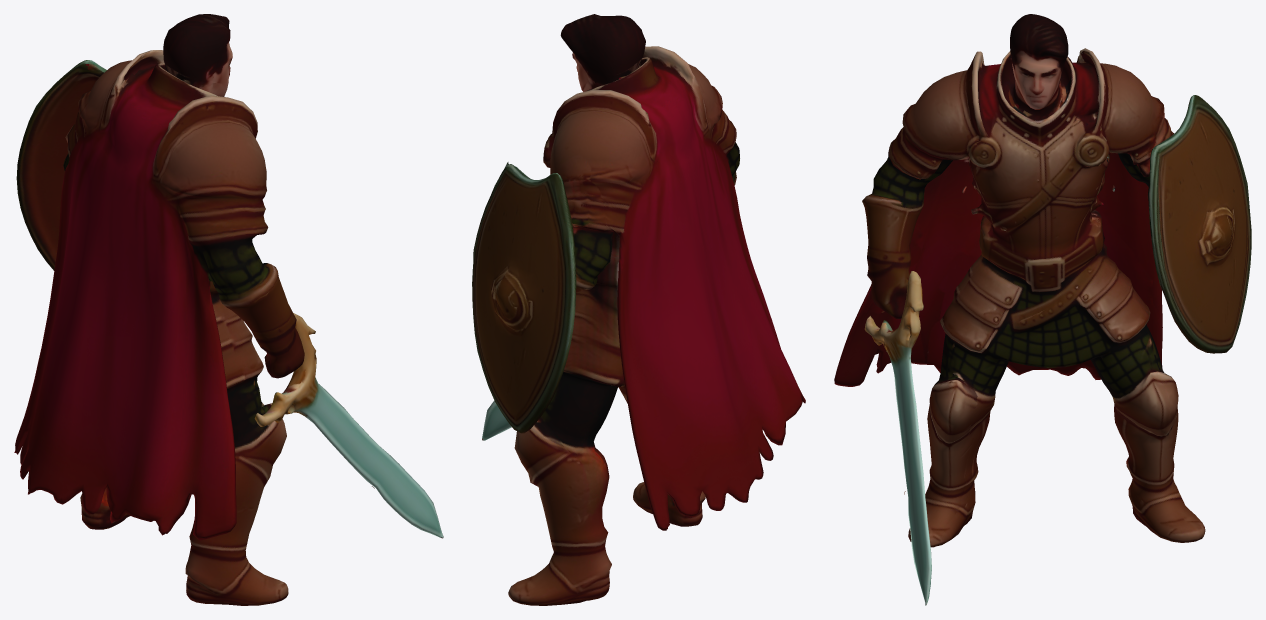
The model's file is AshF.fbx.
The picture shows the model from 3 angles, left to right: view 1: azimuth 30°, elevation 25°; view 2: azimuth 150°, elevation 25°; view 3: azimuth 270°, elevation 25°; orthographic projection. The views are drawn at different scales.
Visible parts, largest first — view 1: tripo_node_099e97ef; view 2: tripo_node_099e97ef; view 3: tripo_node_099e97ef.
Boxes of the visible parts, <box> form: tripo_node_099e97ef: <box>14,14,443,605</box>; tripo_node_099e97ef: <box>472,14,805,605</box>; tripo_node_099e97ef: <box>834,14,1251,605</box>.
Size of the model in its own units: 0.6688 by 1 by 0.7357.
Materials: 1 (1 with a texture image).
